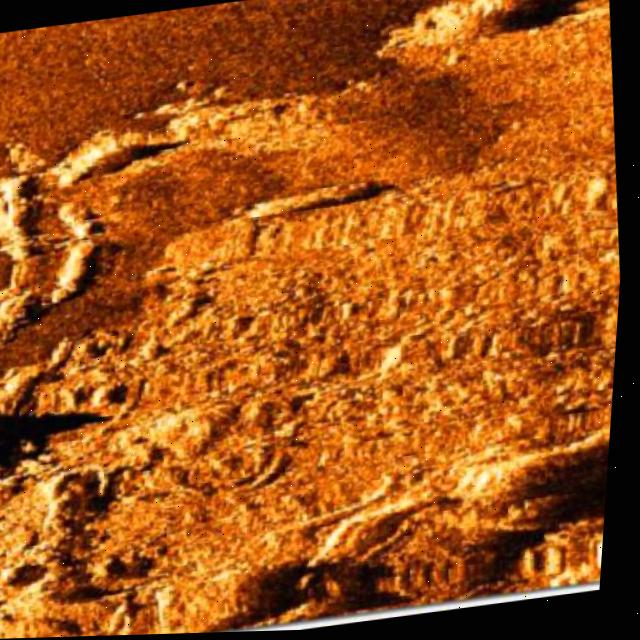bedrock group: (0, 154, 631, 640)
